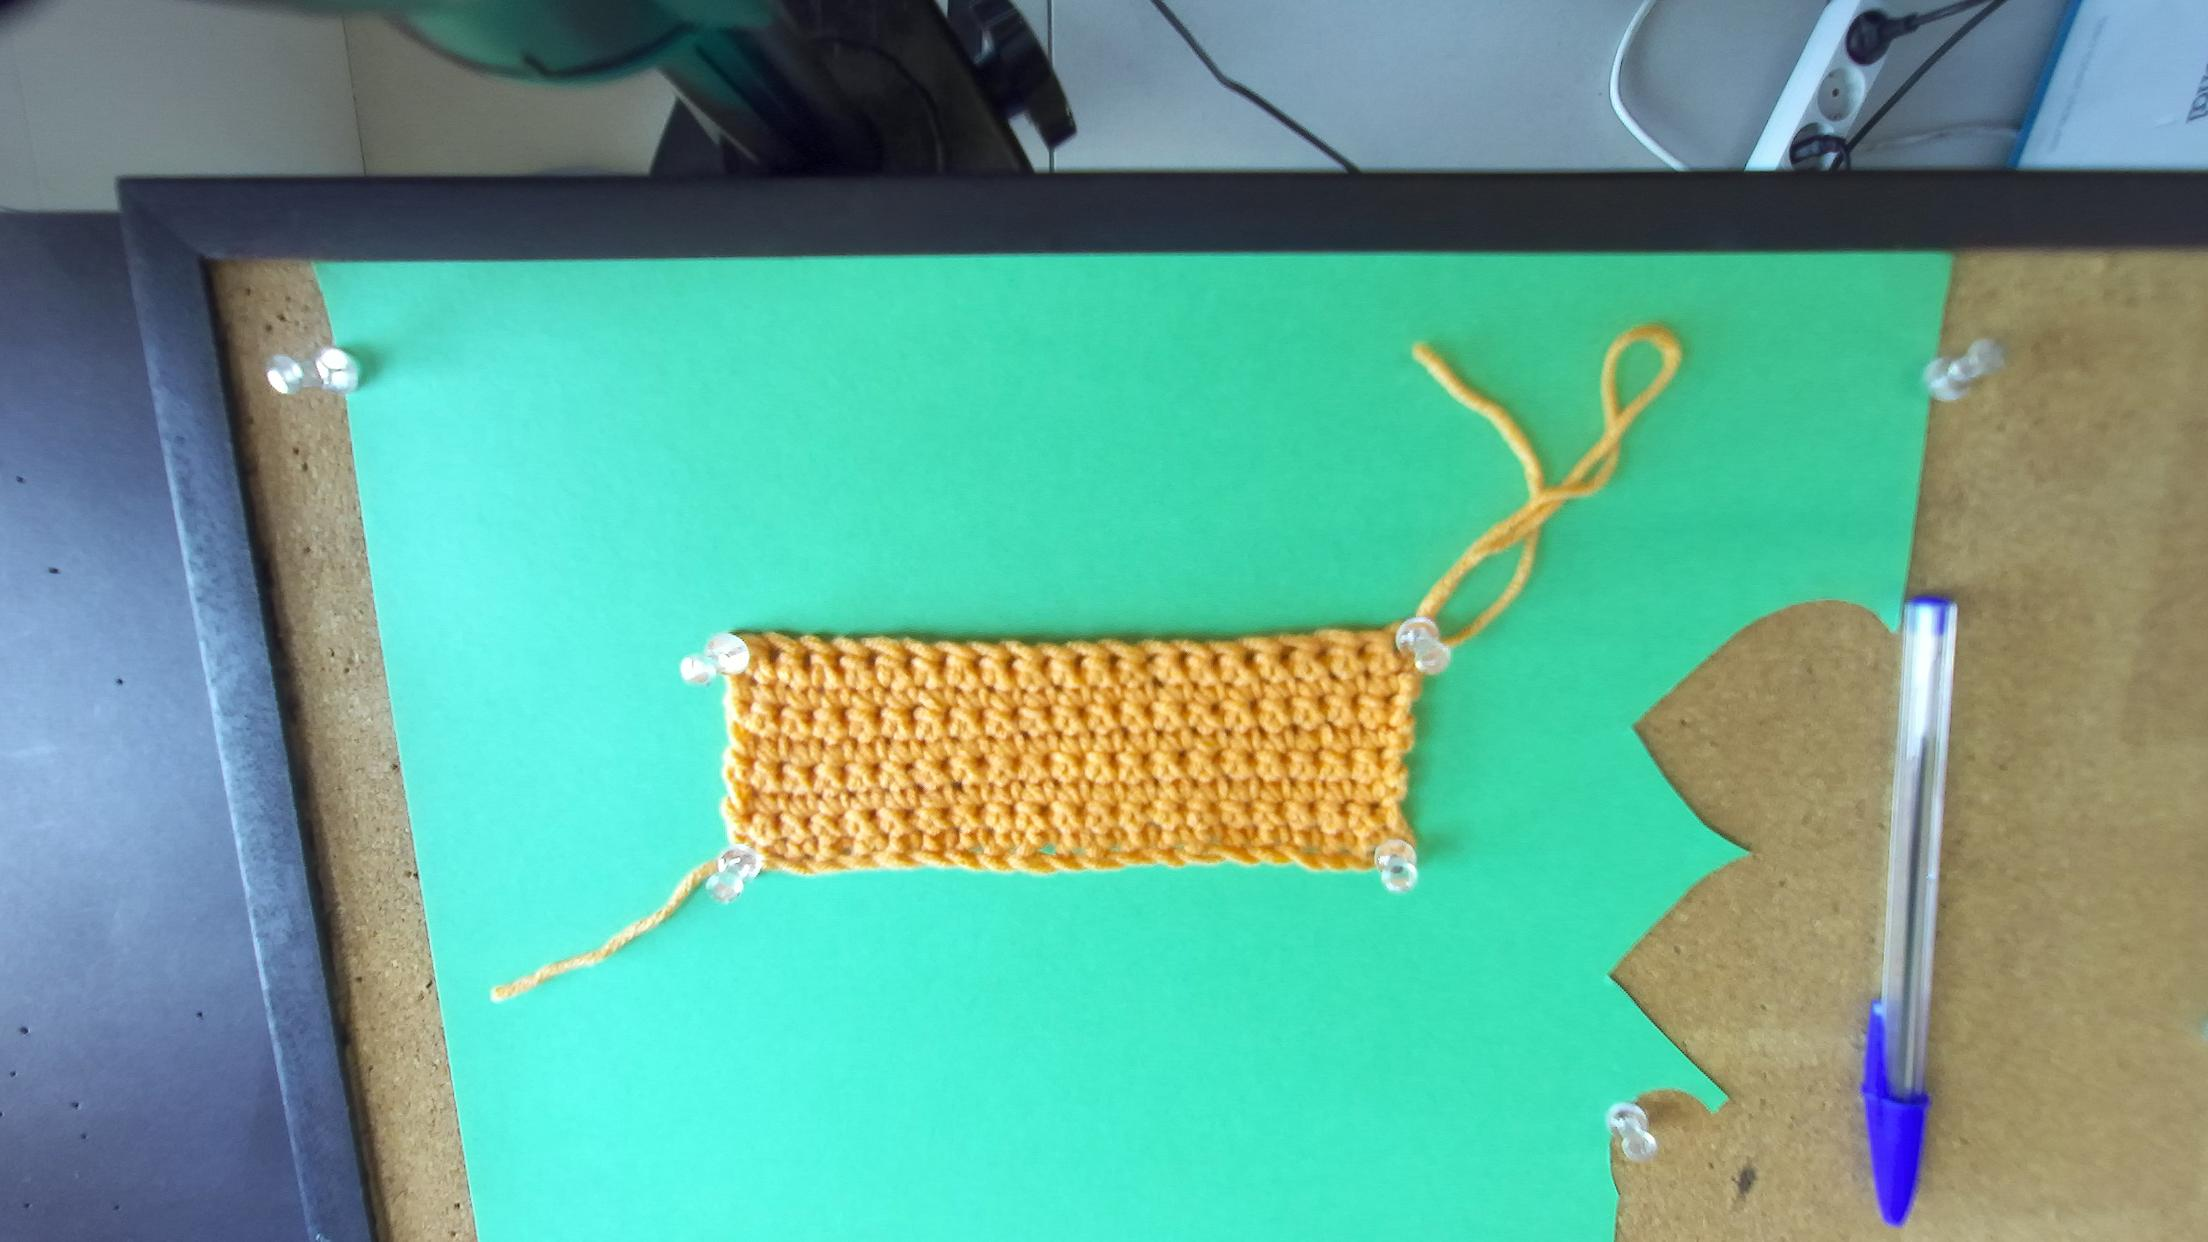hole: (766, 640, 784, 666), (902, 651, 919, 672), (867, 648, 883, 669), (804, 648, 816, 672), (1002, 652, 1019, 669), (971, 652, 986, 669), (1071, 655, 1089, 669), (937, 651, 948, 673), (1040, 655, 1054, 670), (1107, 652, 1121, 667), (1315, 646, 1330, 660), (834, 651, 846, 667), (1177, 651, 1190, 664), (1280, 648, 1294, 661), (1210, 652, 1224, 664), (1354, 645, 1366, 657), (1145, 654, 1159, 664), (1245, 649, 1256, 663)
swatch: (714, 629, 1422, 892)
